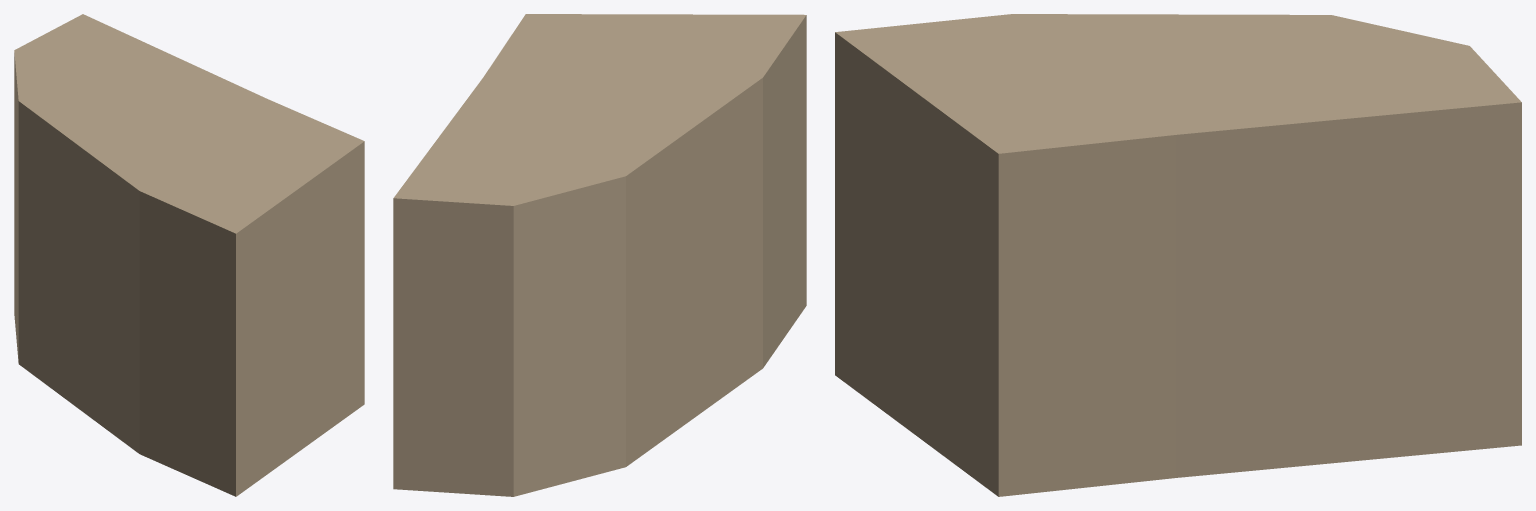
Rendered from bld_99003284.dae.
The picture shows the model from 3 angles, left to right: view 1: azimuth 30°, elevation 25°; view 2: azimuth 150°, elevation 25°; view 3: azimuth 270°, elevation 25°; orthographic projection. The views are drawn at different scales.
Parts seen in each view (by area): view 1: West Square Dental Practice; view 2: West Square Dental Practice; view 3: West Square Dental Practice.
Part boxes in pixels (<box>): West Square Dental Practice: <box>14,14,364,496</box>; West Square Dental Practice: <box>393,14,806,496</box>; West Square Dental Practice: <box>835,14,1521,496</box>.
Bounding box in the file's own units: 6.99 × 14.51 × 8.
